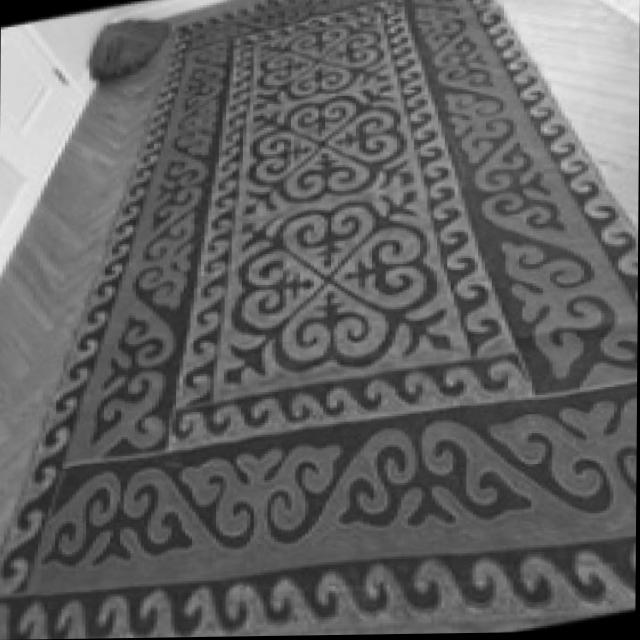Unity: (222, 188, 462, 394)
